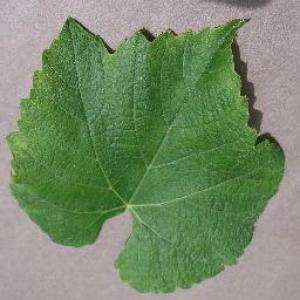Folha: (5, 14, 284, 294)
